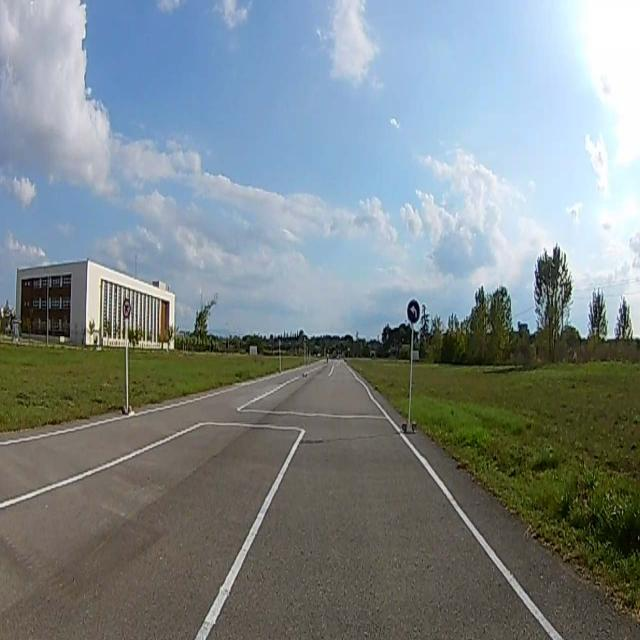sagadonulmez: (123, 300, 131, 318)
sol: (407, 299, 420, 321)
